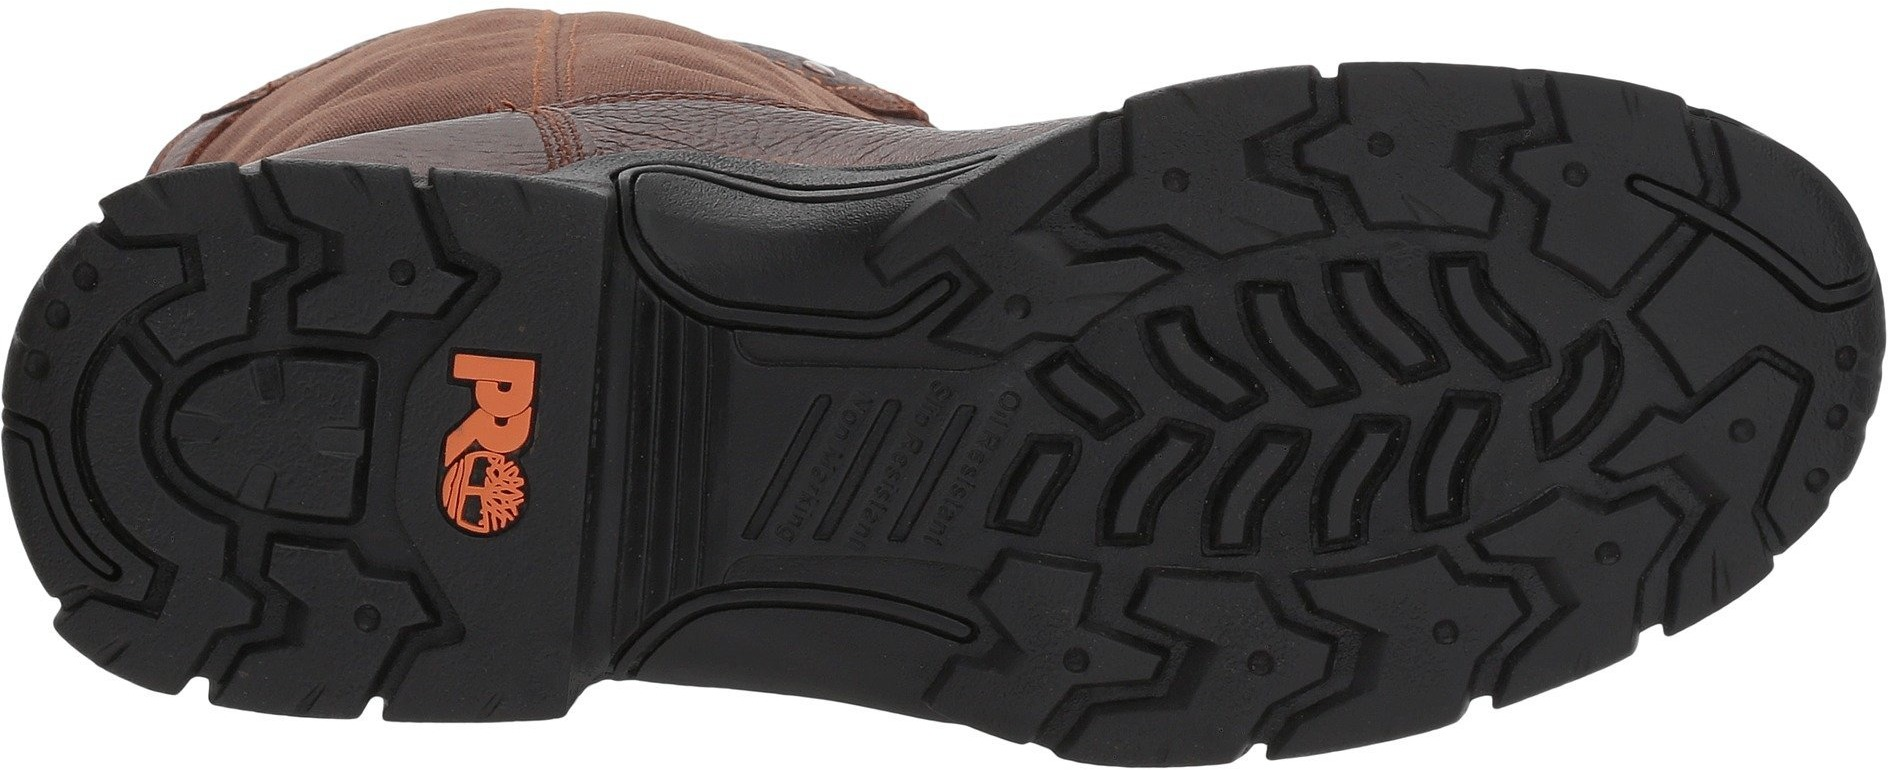circle: (26, 284, 88, 348)
exclude: (75, 13, 1215, 200)
text: (412, 357, 553, 470)
